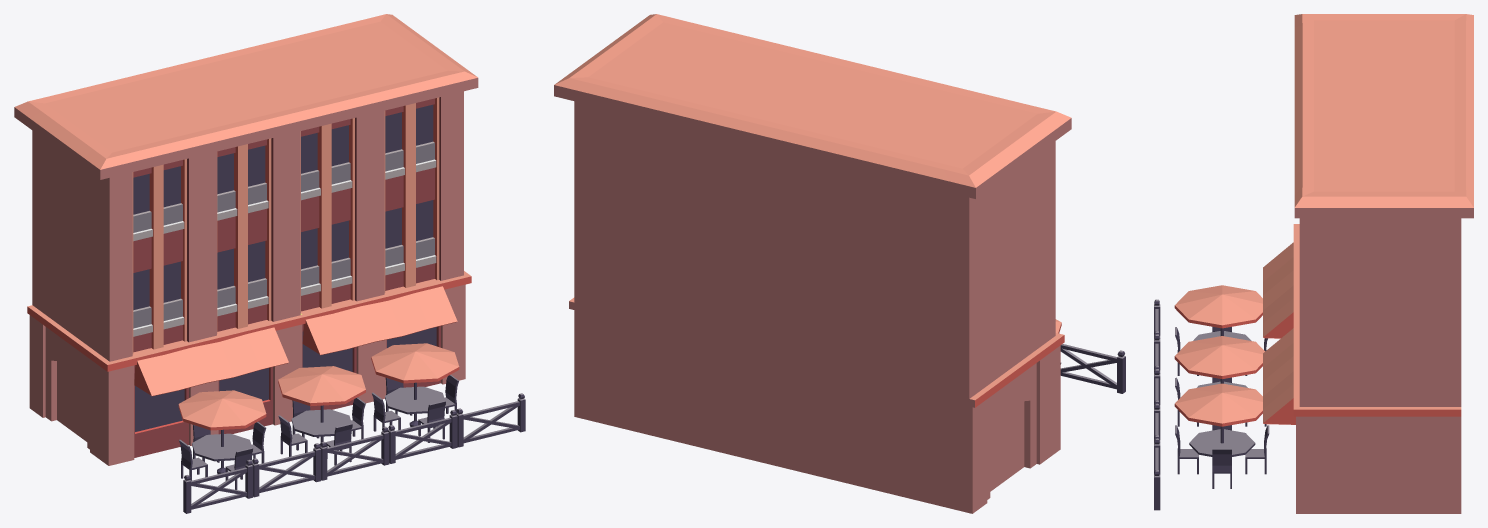
Rendered from RED_cafe.fbx.
The picture shows the model from 3 angles, left to right: view 1: azimuth 30°, elevation 25°; view 2: azimuth 150°, elevation 25°; view 3: azimuth 270°, elevation 25°; orthographic projection. The views are drawn at different scales.
Visible parts, largest first — view 1: building_5:pCube1, building_5:pCylinder1 (×3), building_5:pasted__pCube19, building_5:pasted__pCube18, building_5:pCylinder4 (×3); view 2: building_5:pCube1; view 3: building_5:pCube1, building_5:pCylinder1 (×3), building_5:pasted__pCube19, building_5:pasted__pCube18, building_5:pCylinder4, building_5:pCube2.
Part boxes in pixels (<box>): building_5:pCube1: <box>14,14,478,465</box>; building_5:pCylinder1 (×3): <box>178,343,459,430</box>; building_5:pasted__pCube19: <box>302,286,457,355</box>; building_5:pasted__pCube18: <box>134,327,288,396</box>; building_5:pCylinder4 (×3): <box>192,386,445,461</box>; building_5:pCube1: <box>554,14,1071,513</box>; building_5:pCube1: <box>1293,14,1473,513</box>; building_5:pCylinder1 (×3): <box>1174,285,1264,426</box>; building_5:pasted__pCube19: <box>1263,328,1295,424</box>; building_5:pasted__pCube18: <box>1263,242,1293,338</box>; building_5:pCylinder4: <box>1189,429,1255,456</box>; building_5:pCube2: <box>1212,448,1231,471</box>.
Size of the model in its own units: 14.79 by 11.41 by 10.38.
